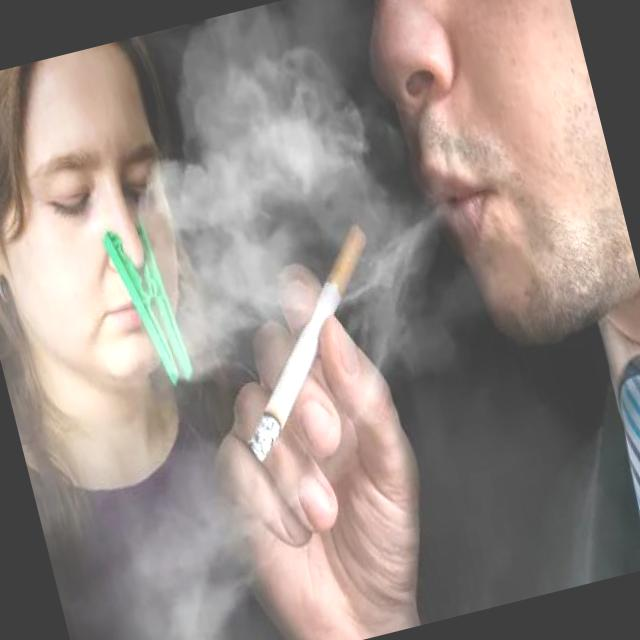cigarette: (202, 220, 414, 466)
